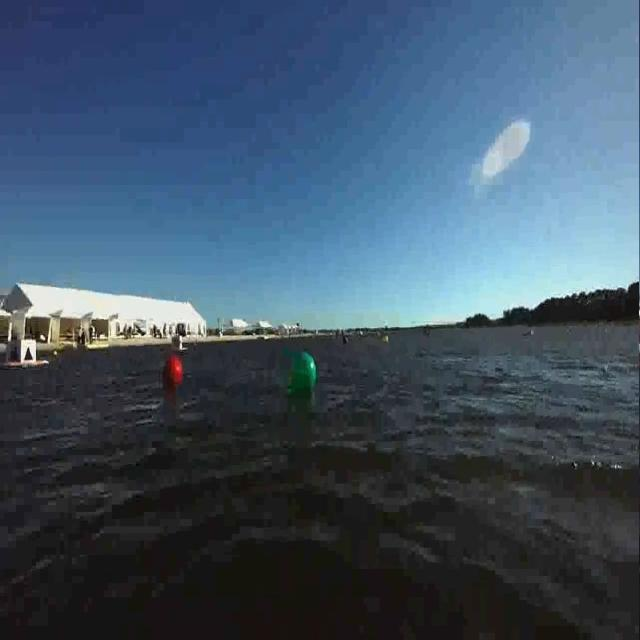green-buoy: (288, 352, 320, 394)
red-buoy: (164, 357, 183, 386)
yellow-buoy: (382, 334, 390, 346)
